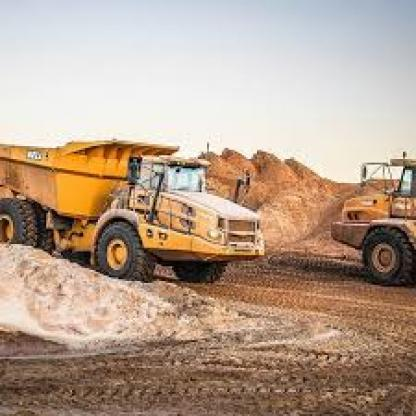dump_truck: (0, 115, 274, 300), (313, 118, 414, 288)
